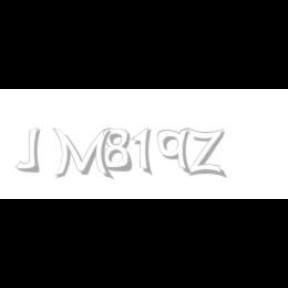1: (131, 128, 153, 176)
8: (102, 128, 132, 172)
J: (16, 128, 40, 172)
M: (52, 128, 112, 180)
Z: (188, 128, 224, 178)
q: (157, 128, 193, 176)
